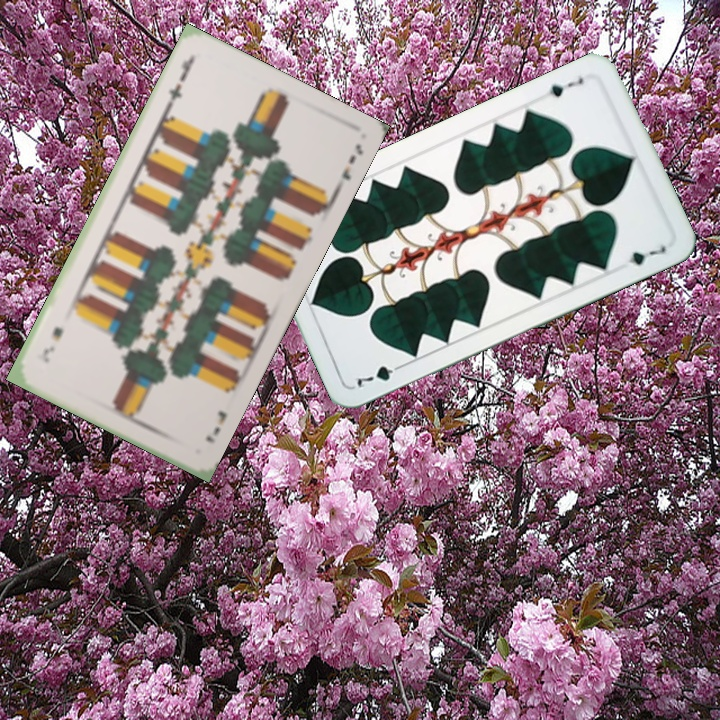E7: (163, 53, 197, 109), (202, 406, 230, 446)
G7: (352, 359, 408, 391), (545, 73, 586, 100)
